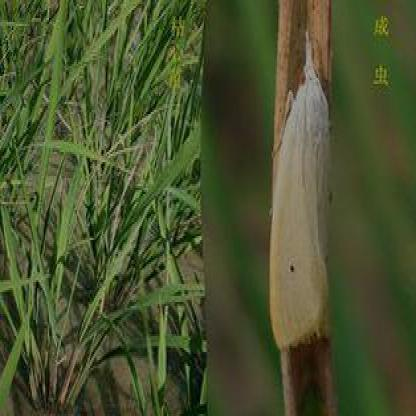stem-borer: (268, 27, 336, 354)
